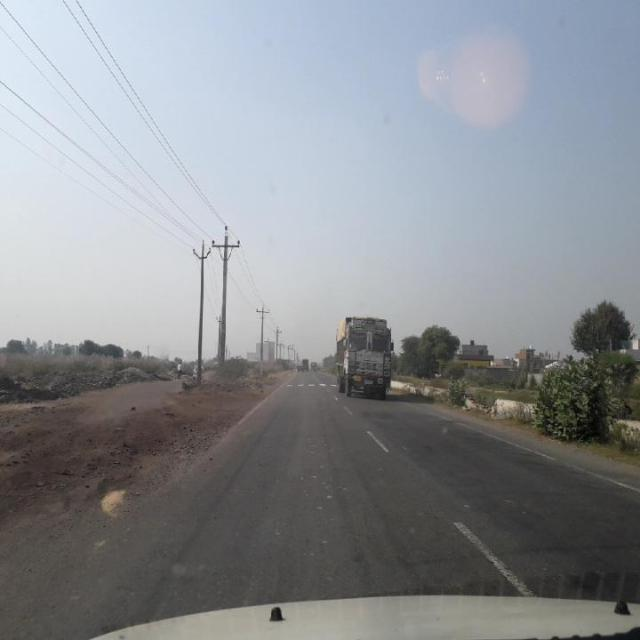Crack: (319, 406, 529, 606)
